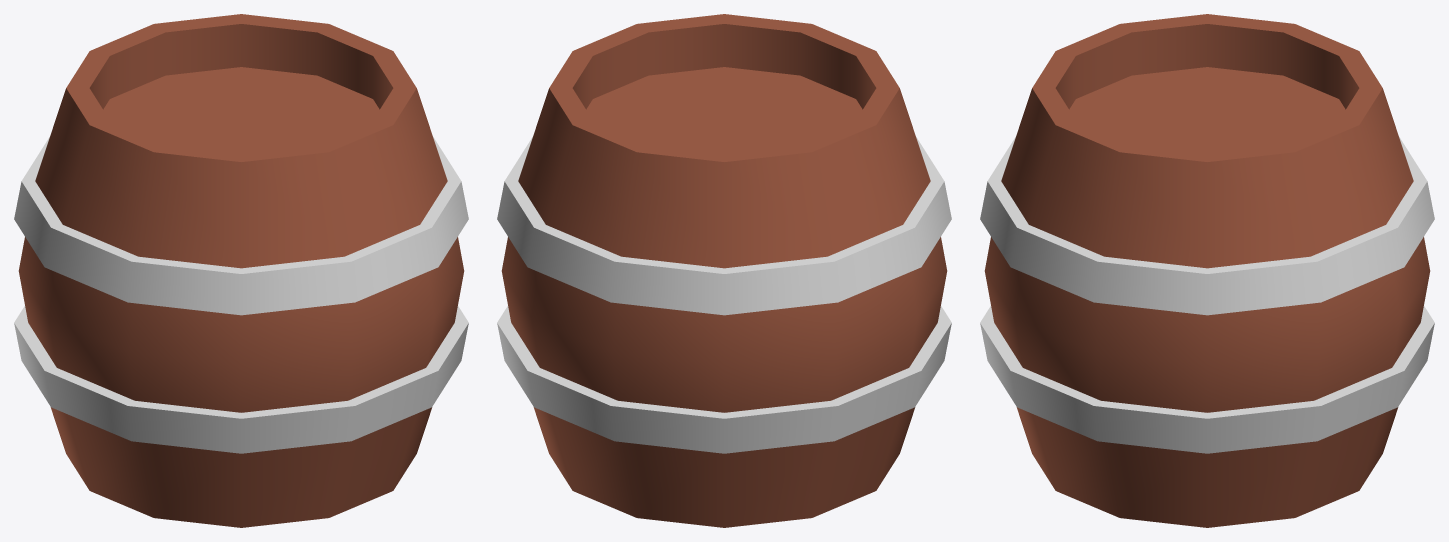
Rendered from Barrel.fbx.
The picture shows the model from 3 angles, left to right: view 1: azimuth 30°, elevation 25°; view 2: azimuth 150°, elevation 25°; view 3: azimuth 270°, elevation 25°; orthographic projection.
Parts seen in each view (by area): view 1: Cylinder; view 2: Cylinder; view 3: Cylinder.
Part boxes in pixels (x1=…): Cylinder: x1=14, y1=14, x2=468, y2=527; Cylinder: x1=497, y1=14, x2=951, y2=527; Cylinder: x1=980, y1=14, x2=1434, y2=527.
Size of the model in its own units: 296 by 263 by 296.
